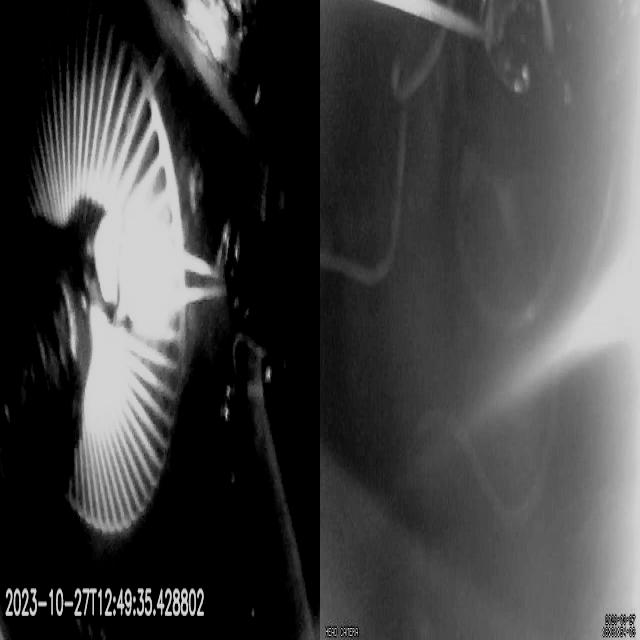head: (100, 208, 181, 339)
